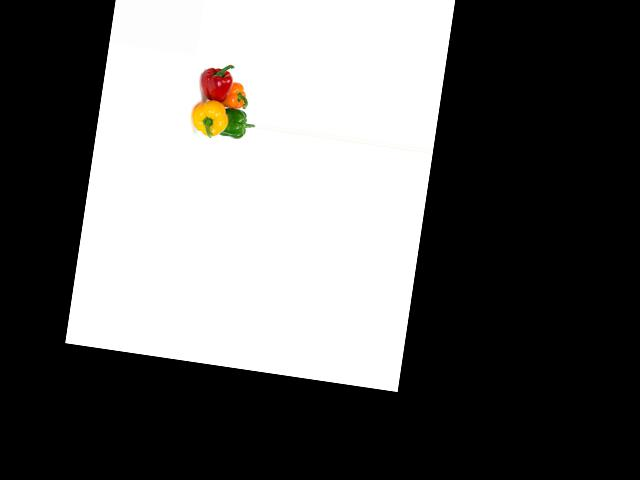bell_pepper: (187, 96, 231, 142)
